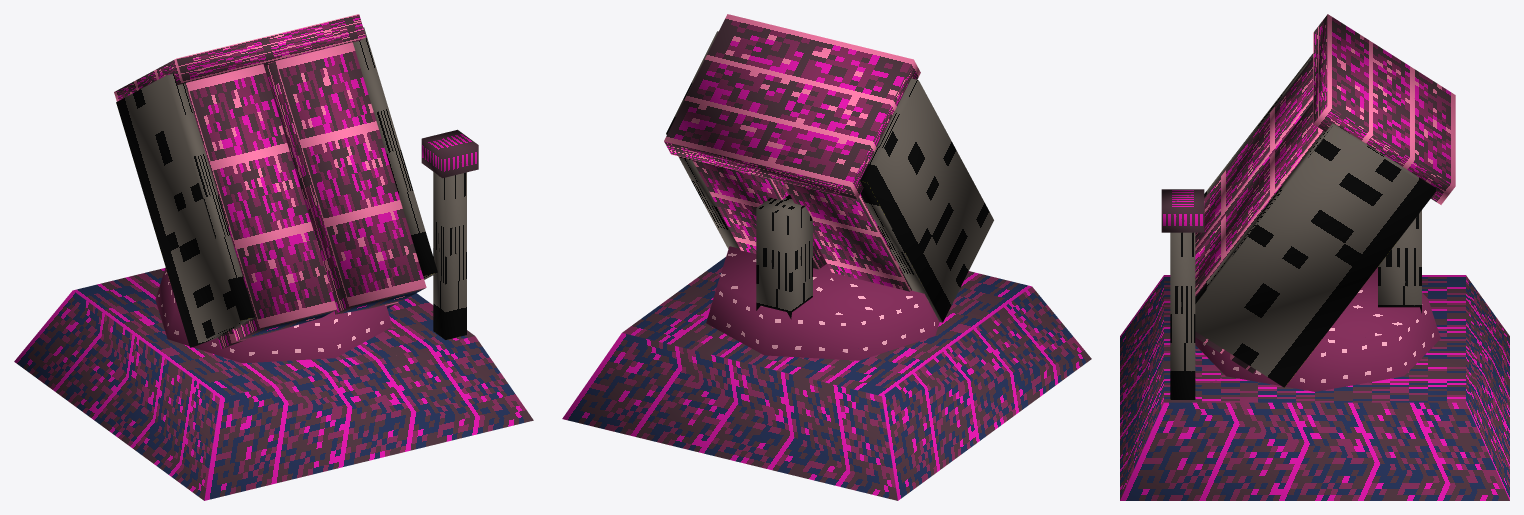
Rendered from sam_turret.glb.
3 renders of one model, left to right at view 1: azimuth 30°, elevation 25°; view 2: azimuth 150°, elevation 25°; view 3: azimuth 270°, elevation 25°, orthographic. The views are drawn at different scales.
Parts seen in each view (by area): view 1: Model; view 2: Model; view 3: Model.
Boxes of the visible parts, x1=… form: Model: x1=14, y1=14, x2=533, y2=500; Model: x1=562, y1=14, x2=1091, y2=500; Model: x1=1120, y1=14, x2=1509, y2=500.
Bounding box in the file's own units: 23.5 × 23.86 × 23.5.
1 material, 1 textured.
